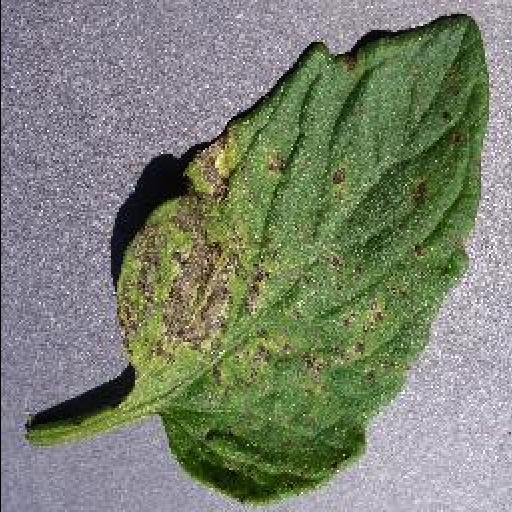disease_tomato: (108, 14, 490, 504)
